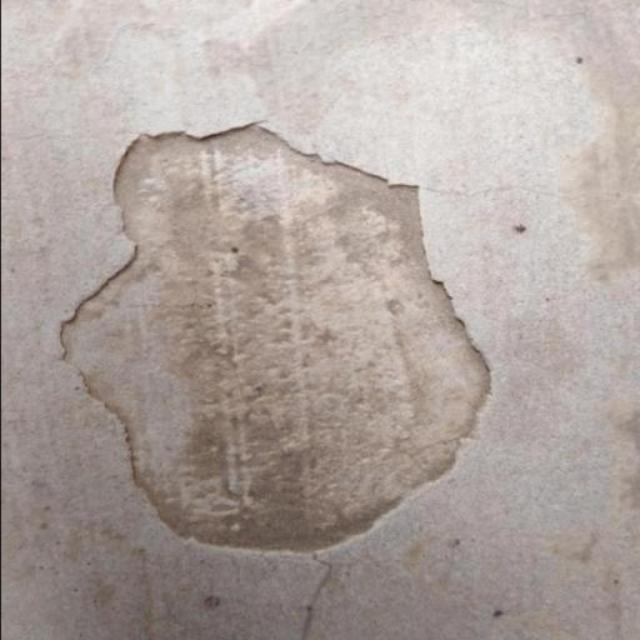D10: (58, 118, 491, 561)
